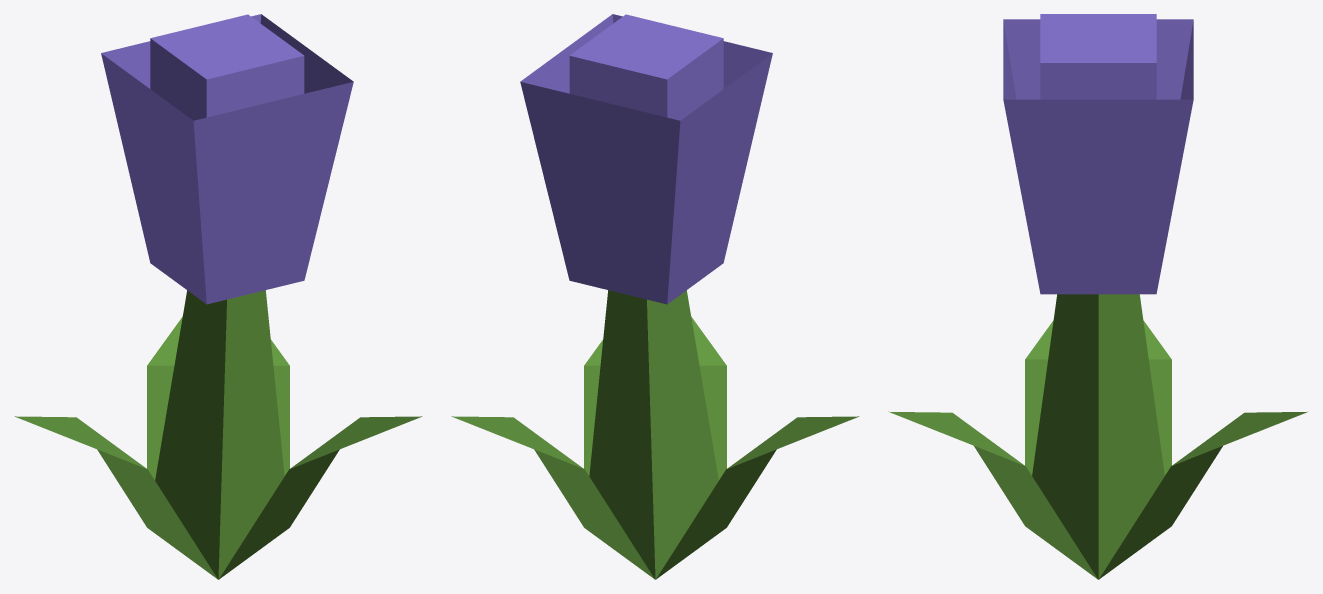
File: flower_purpleA.glb
3 renders of one model, left to right at view 1: azimuth 30°, elevation 25°; view 2: azimuth 150°, elevation 25°; view 3: azimuth 270°, elevation 25°, orthographic. The views are drawn at different scales.
Parts seen in each view (by area): view 1: flower_purpleA; view 2: flower_purpleA; view 3: flower_purpleA.
Boxes of the visible parts, left/top/right/bottom form: flower_purpleA: left=14, top=14, right=422, bottom=579; flower_purpleA: left=451, top=14, right=859, bottom=579; flower_purpleA: left=888, top=14, right=1308, bottom=579.
Bounding box in the file's own units: 0.1591 × 0.2425 × 0.1811.
